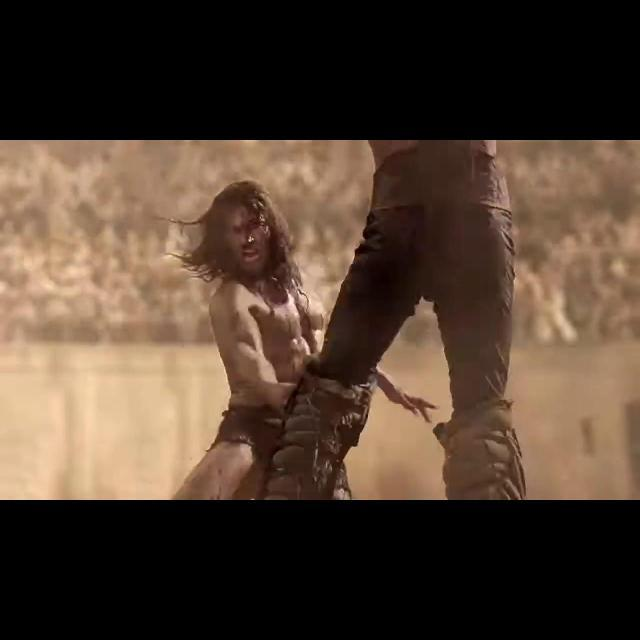blood: (225, 205, 270, 282)
